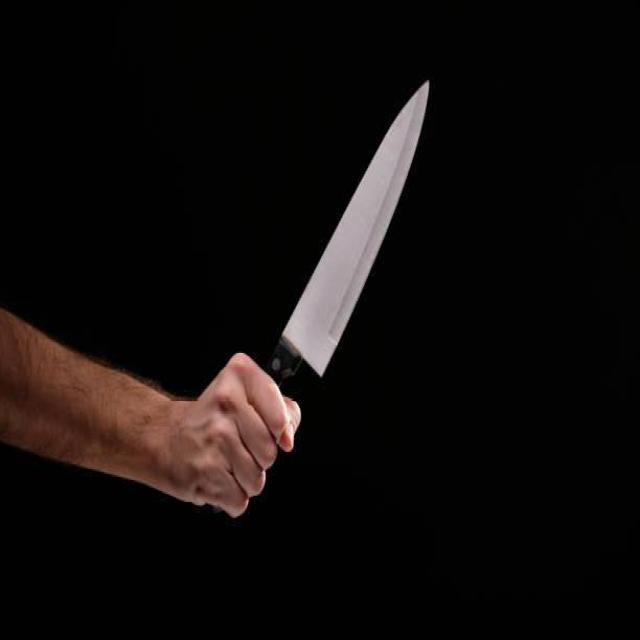faca: (187, 41, 452, 564)
